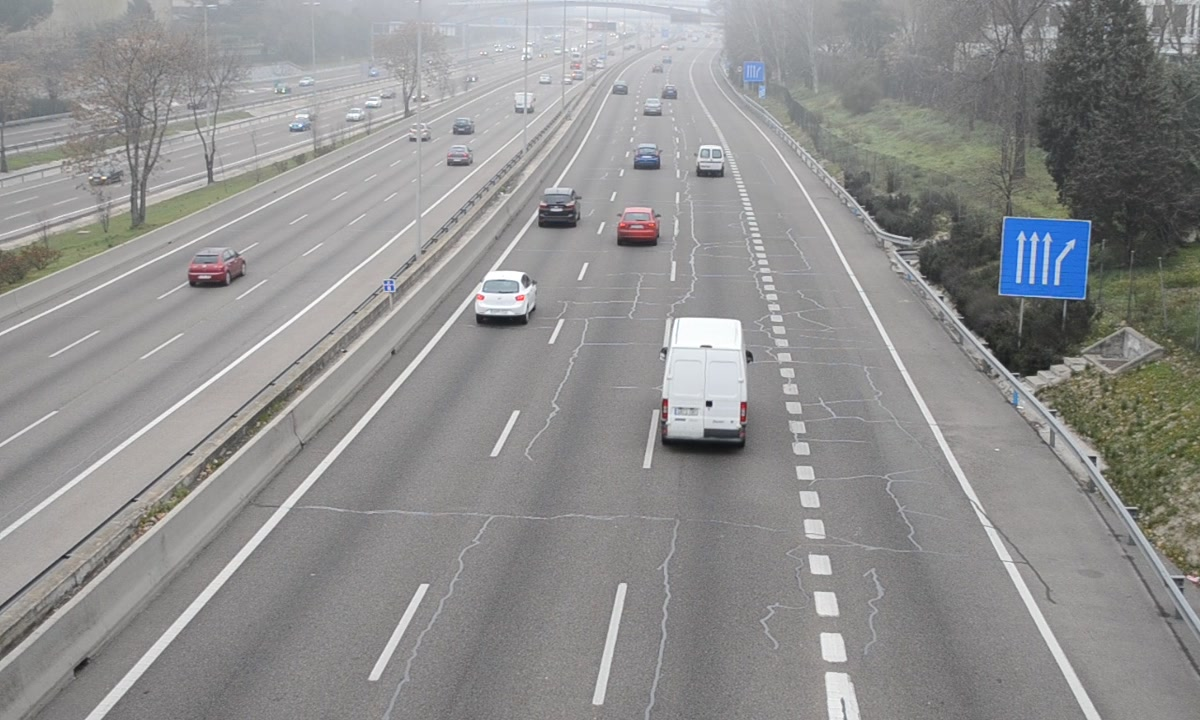car: (473, 272, 537, 318), (538, 186, 579, 227), (617, 206, 659, 245), (632, 143, 662, 171)
van: (663, 317, 747, 448), (695, 143, 727, 180)
